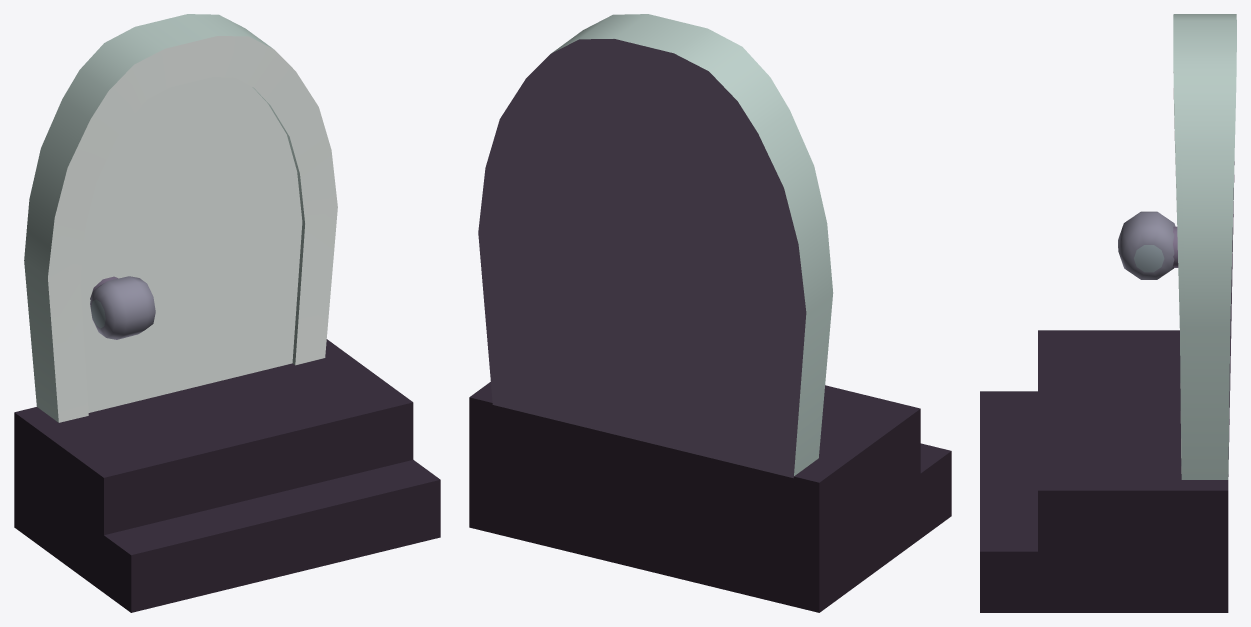
Rendered from Door03_White_Black.glb.
3 renders of one model, left to right at view 1: azimuth 30°, elevation 25°; view 2: azimuth 150°, elevation 25°; view 3: azimuth 270°, elevation 25°, orthographic. The views are drawn at different scales.
Visible parts, largest first — view 1: Door03_White_Black; view 2: Door03_White_Black; view 3: Door03_White_Black.
Boxes of the visible parts, <box> form: Door03_White_Black: <box>14,14,440,612</box>; Door03_White_Black: <box>469,14,951,612</box>; Door03_White_Black: <box>980,14,1236,612</box>.
Bounding box in the file's own units: 0.9795 × 1.41 × 0.6625.
Materials: 1 (1 with a texture image).
